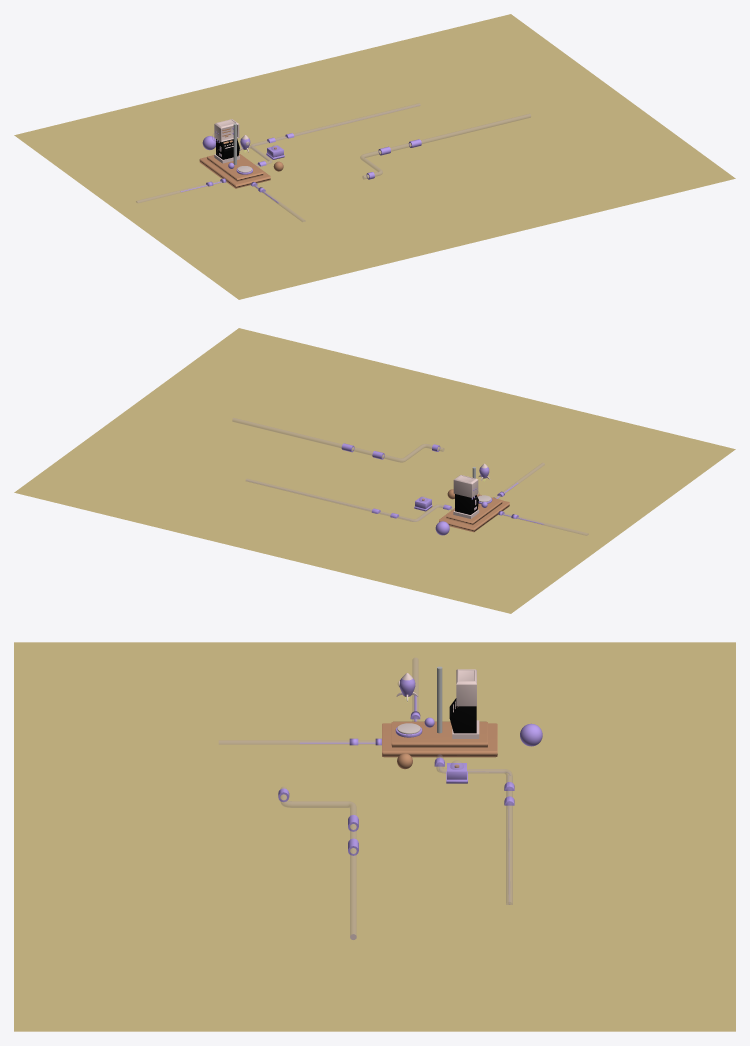
File: 7yue 111111.glb
The picture shows the model from 3 angles, top to bottom: view 1: azimuth 30°, elevation 25°; view 2: azimuth 150°, elevation 25°; view 3: azimuth 270°, elevation 25°; orthographic projection. The views are drawn at different scales.
Visible parts, largest first — view 1: Plane001, Teapot001, Box002, Box001, Line001; view 2: Plane001, Teapot001, Line001, Box001, Box002, Box005; view 3: Plane001, Box002, Box001, Teapot001, Line001, Box005, Box004, Cylinder009.
Part boxes in pixels (box(x1,y1,x2,y2)): Plane001: box(14, 14, 735, 299); Teapot001: box(360, 114, 530, 179); Box002: box(207, 154, 263, 181); Box001: box(199, 153, 270, 188); Line001: box(250, 103, 420, 166); Plane001: box(14, 328, 735, 613); Teapot001: box(232, 418, 443, 462); Line001: box(246, 479, 453, 521); Box001: box(439, 500, 509, 532); Box002: box(446, 494, 502, 525); Box005: box(453, 475, 478, 497); Plane001: box(14, 642, 735, 1031); Box002: box(391, 721, 487, 747); Box001: box(382, 723, 497, 757); Teapot001: box(278, 787, 358, 939); Line001: box(436, 754, 512, 904); Box005: box(456, 669, 476, 706); Box004: box(449, 698, 476, 733); Cylinder009: box(219, 740, 375, 744).
Size of what is drawn, in the model's own units: 10.78 by 1.04 by 8.45.
